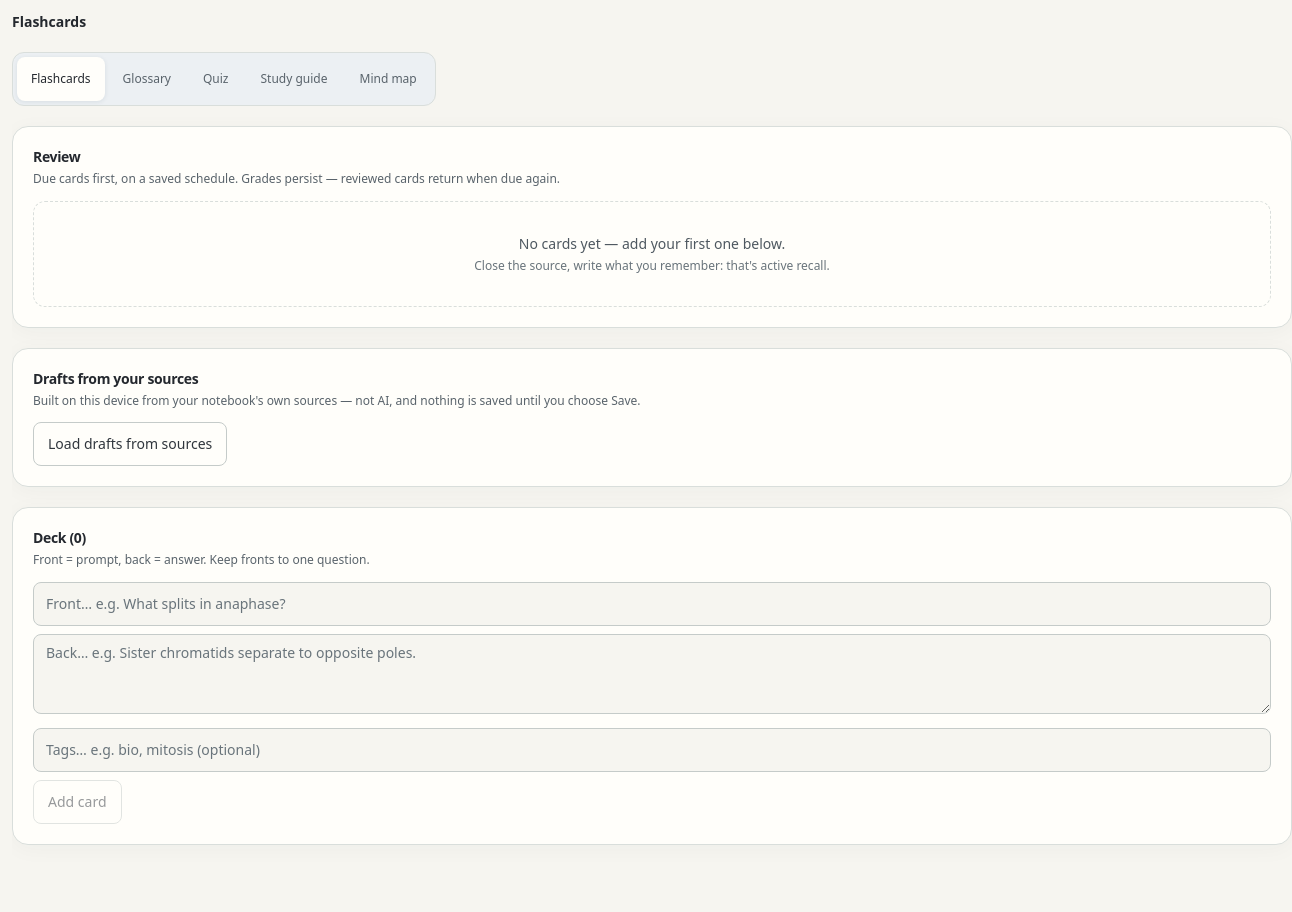
StudyPanel glossary + quiz slice › clears the glossary copy-feedback timeout on unmount
Click the tab "Glossary" at [147, 79], box 109,57 -> 185,101
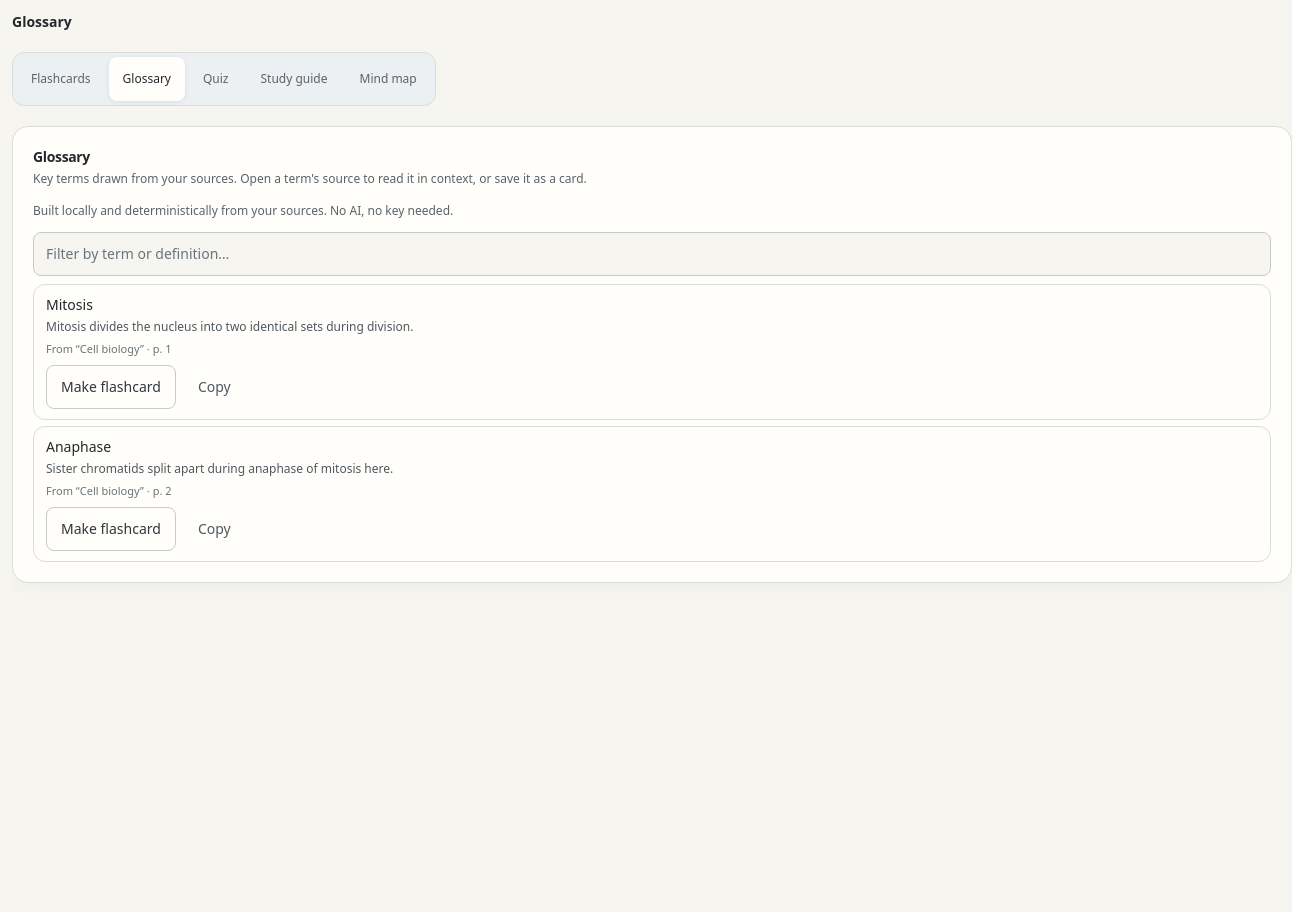
Now the text "Mitosis" is shown, box 46,295 -> 93,314
Click the button "Copy" below "· p. 1" at [214, 387], box 184,365 -> 245,409
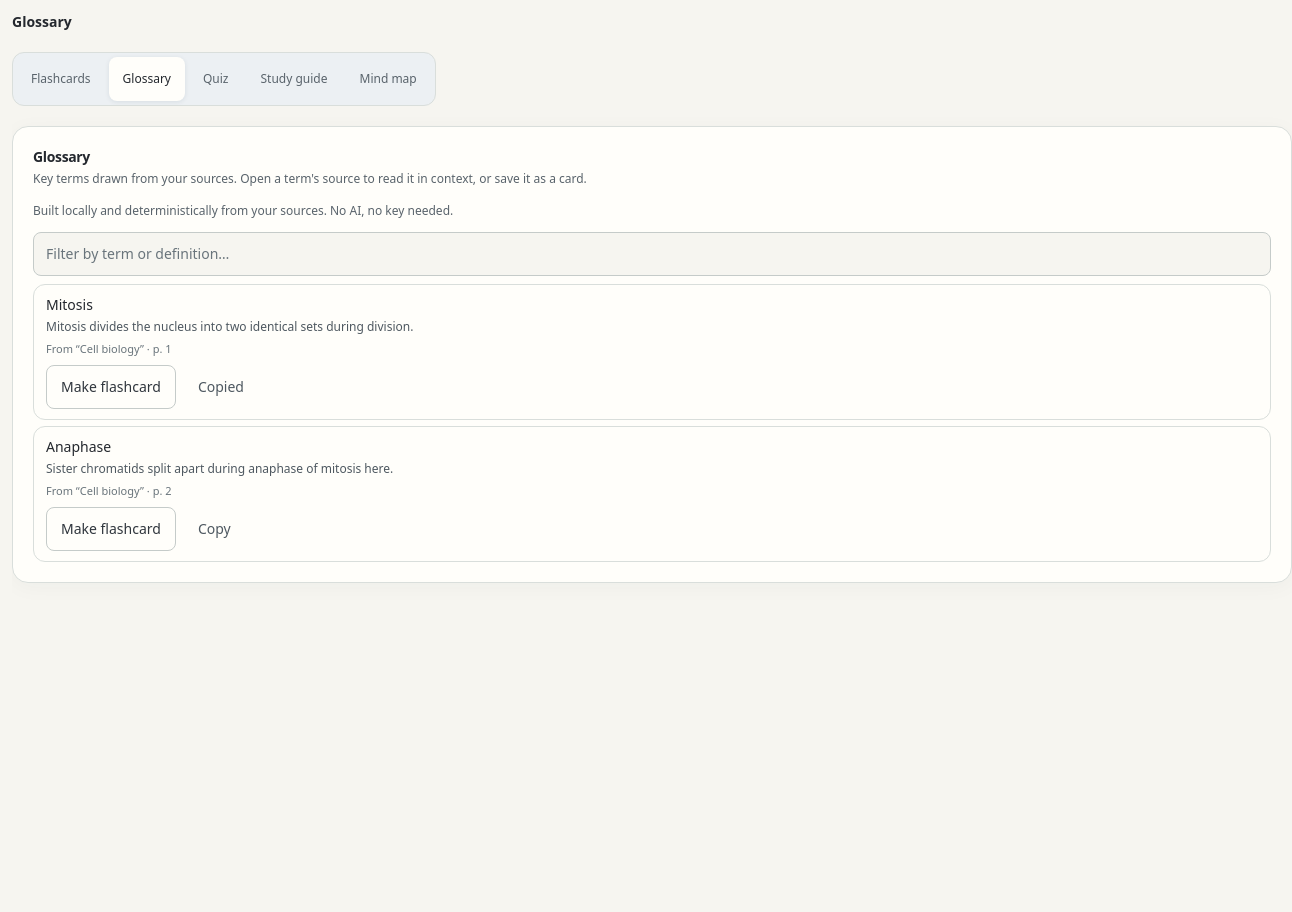
Now the button "Copied" is shown, box 184,365 -> 258,409
